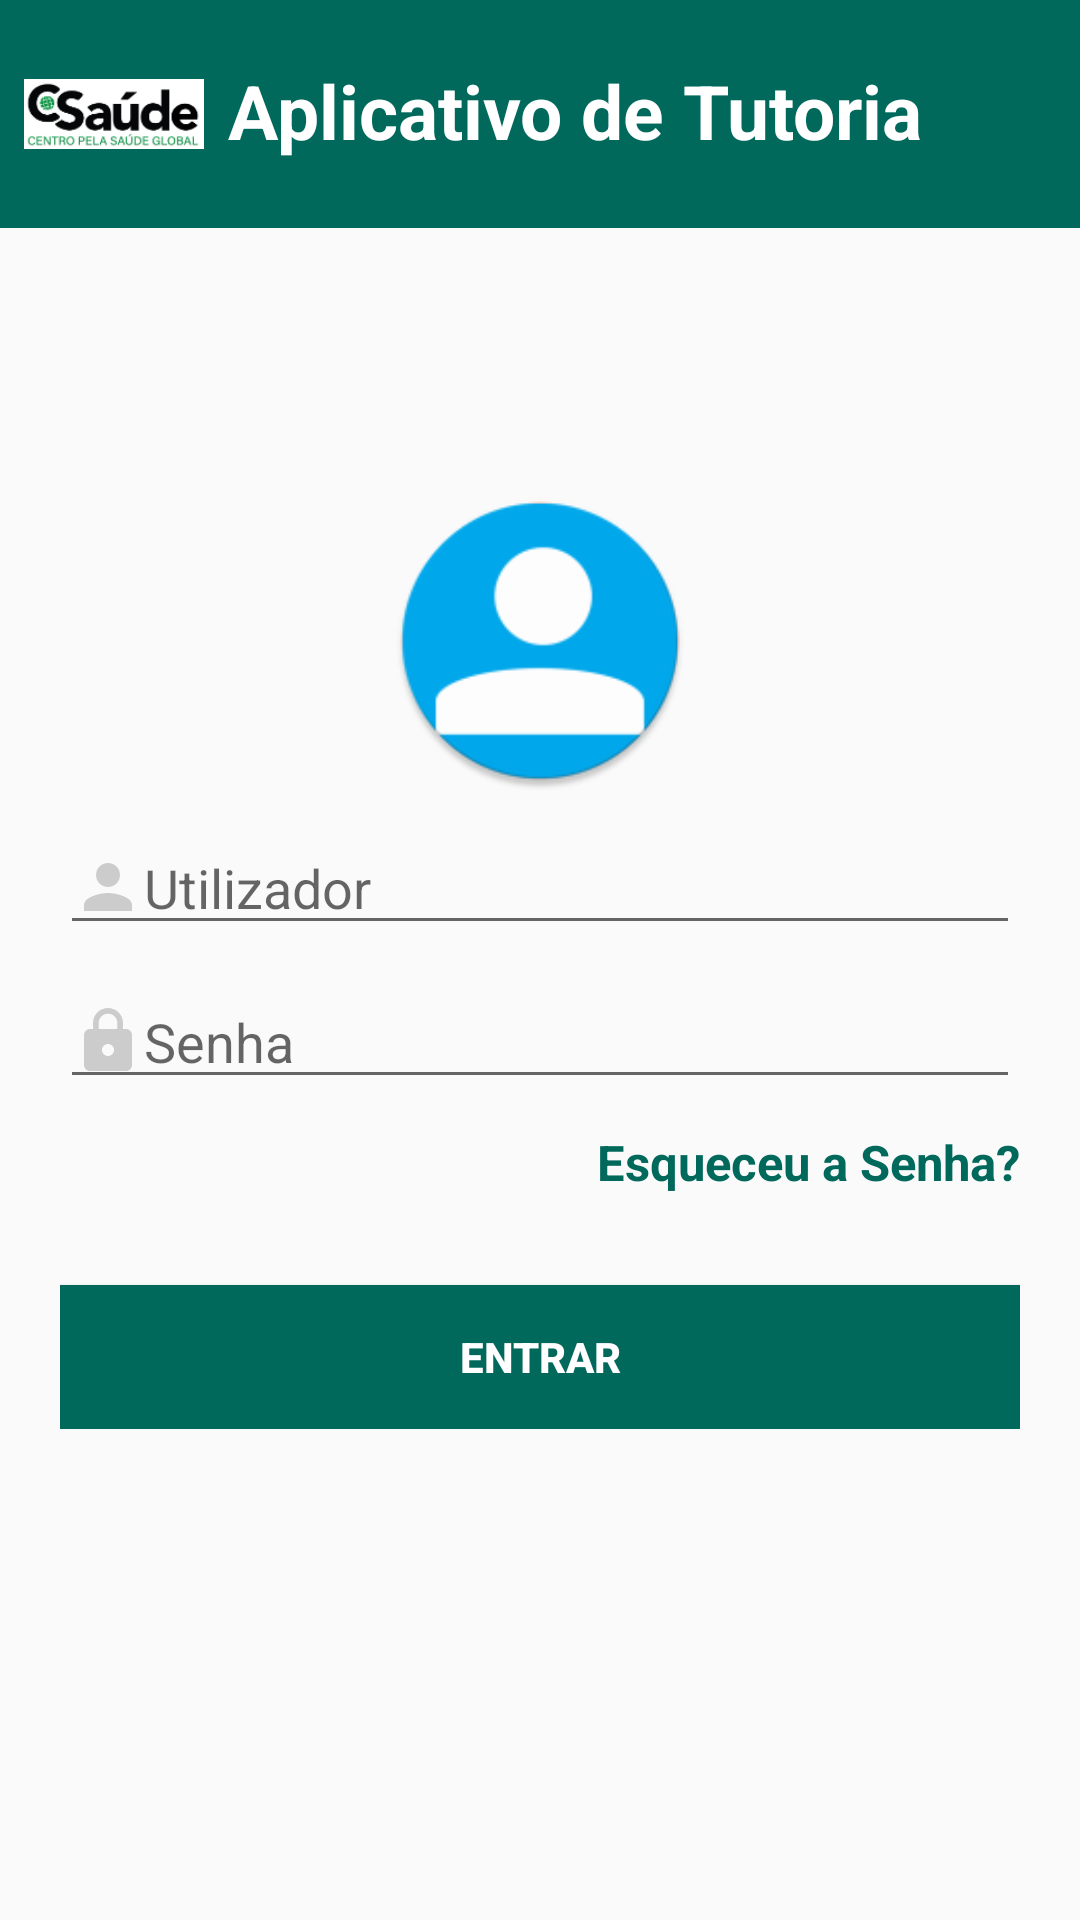

Icon bounding boxes for this 1080x1920 phone screenshot, format [x1, y1, x2, y2]:
person: [400, 502, 680, 786]
